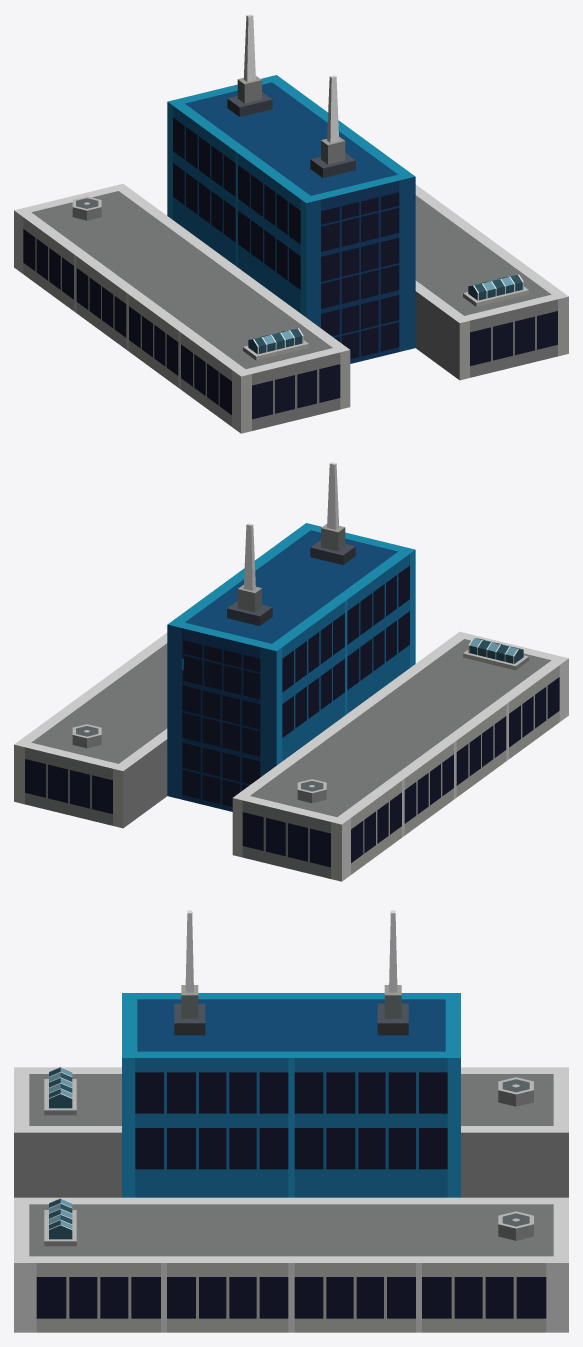
The model's file is TB_CITY_Skysc_T_Top_Blue.FBX.
3 views of the same model, one above another, from view 1: azimuth 30°, elevation 25°; view 2: azimuth 150°, elevation 25°; view 3: azimuth 270°, elevation 25° (orthographic). The views are drawn at different scales.
Visible parts, largest first — view 1: TB_CITY_Skysc_T_Top_Blue; view 2: TB_CITY_Skysc_T_Top_Blue; view 3: TB_CITY_Skysc_T_Top_Blue.
Boxes of the visible parts, bbox=[...] form: TB_CITY_Skysc_T_Top_Blue: bbox=[14, 14, 568, 433]; TB_CITY_Skysc_T_Top_Blue: bbox=[14, 462, 568, 881]; TB_CITY_Skysc_T_Top_Blue: bbox=[14, 910, 568, 1332].
Bounding box in the file's own units: 30 × 23.14 × 36.
